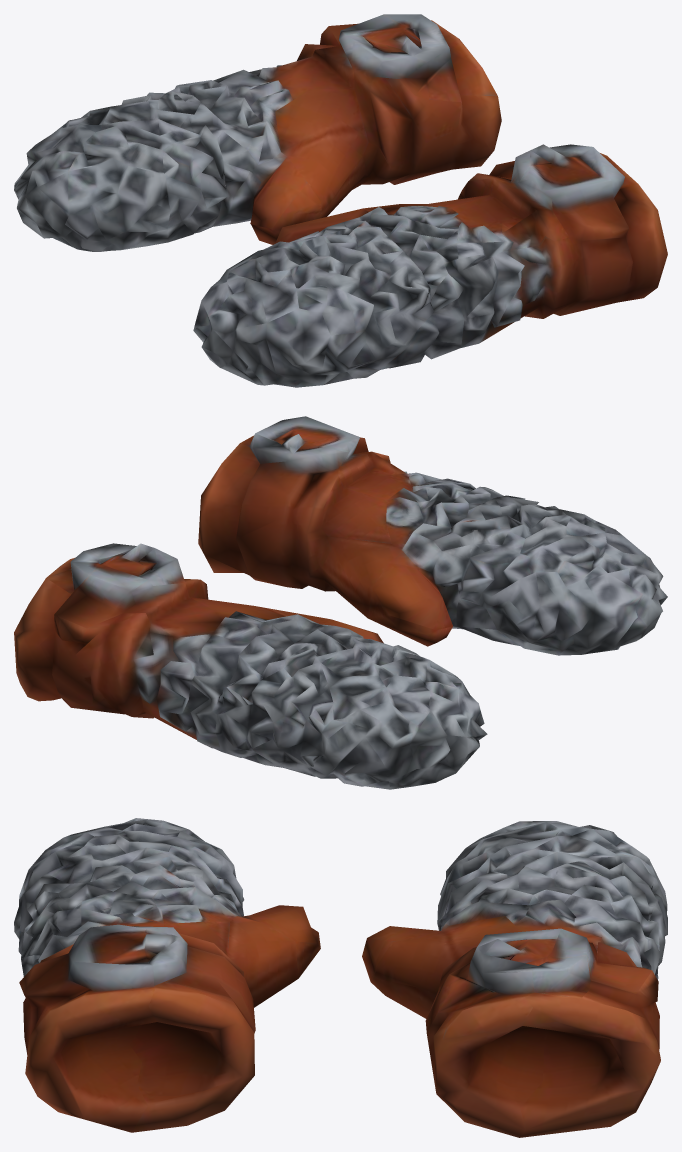
The model's file is loot_gloves_chain-DSsghRZT.glb.
3 views of the same model, one above another, from view 1: azimuth 30°, elevation 25°; view 2: azimuth 150°, elevation 25°; view 3: azimuth 270°, elevation 25° (orthographic). The views are drawn at different scales.
Parts seen in each view (by area): view 1: tripo_node_7d622bf3-1147-4106-8aa3-7c035973b2ef; view 2: tripo_node_7d622bf3-1147-4106-8aa3-7c035973b2ef; view 3: tripo_node_7d622bf3-1147-4106-8aa3-7c035973b2ef.
Boxes of the visible parts, left/top/right/bottom form: tripo_node_7d622bf3-1147-4106-8aa3-7c035973b2ef: left=14, top=14, right=667, bottom=387; tripo_node_7d622bf3-1147-4106-8aa3-7c035973b2ef: left=14, top=416, right=667, bottom=789; tripo_node_7d622bf3-1147-4106-8aa3-7c035973b2ef: left=14, top=818, right=667, bottom=1137.
Size of the model in its own units: 0.8683 by 0.2866 by 1.
1 material, 1 textured.
